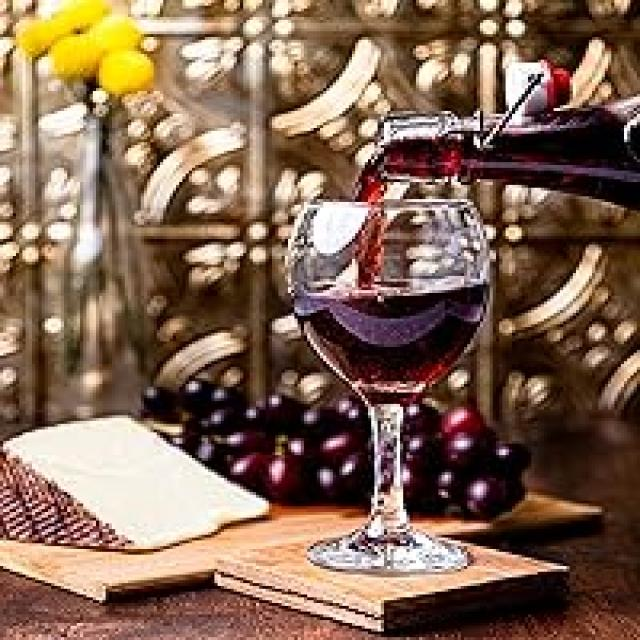glass: (268, 189, 509, 608)
